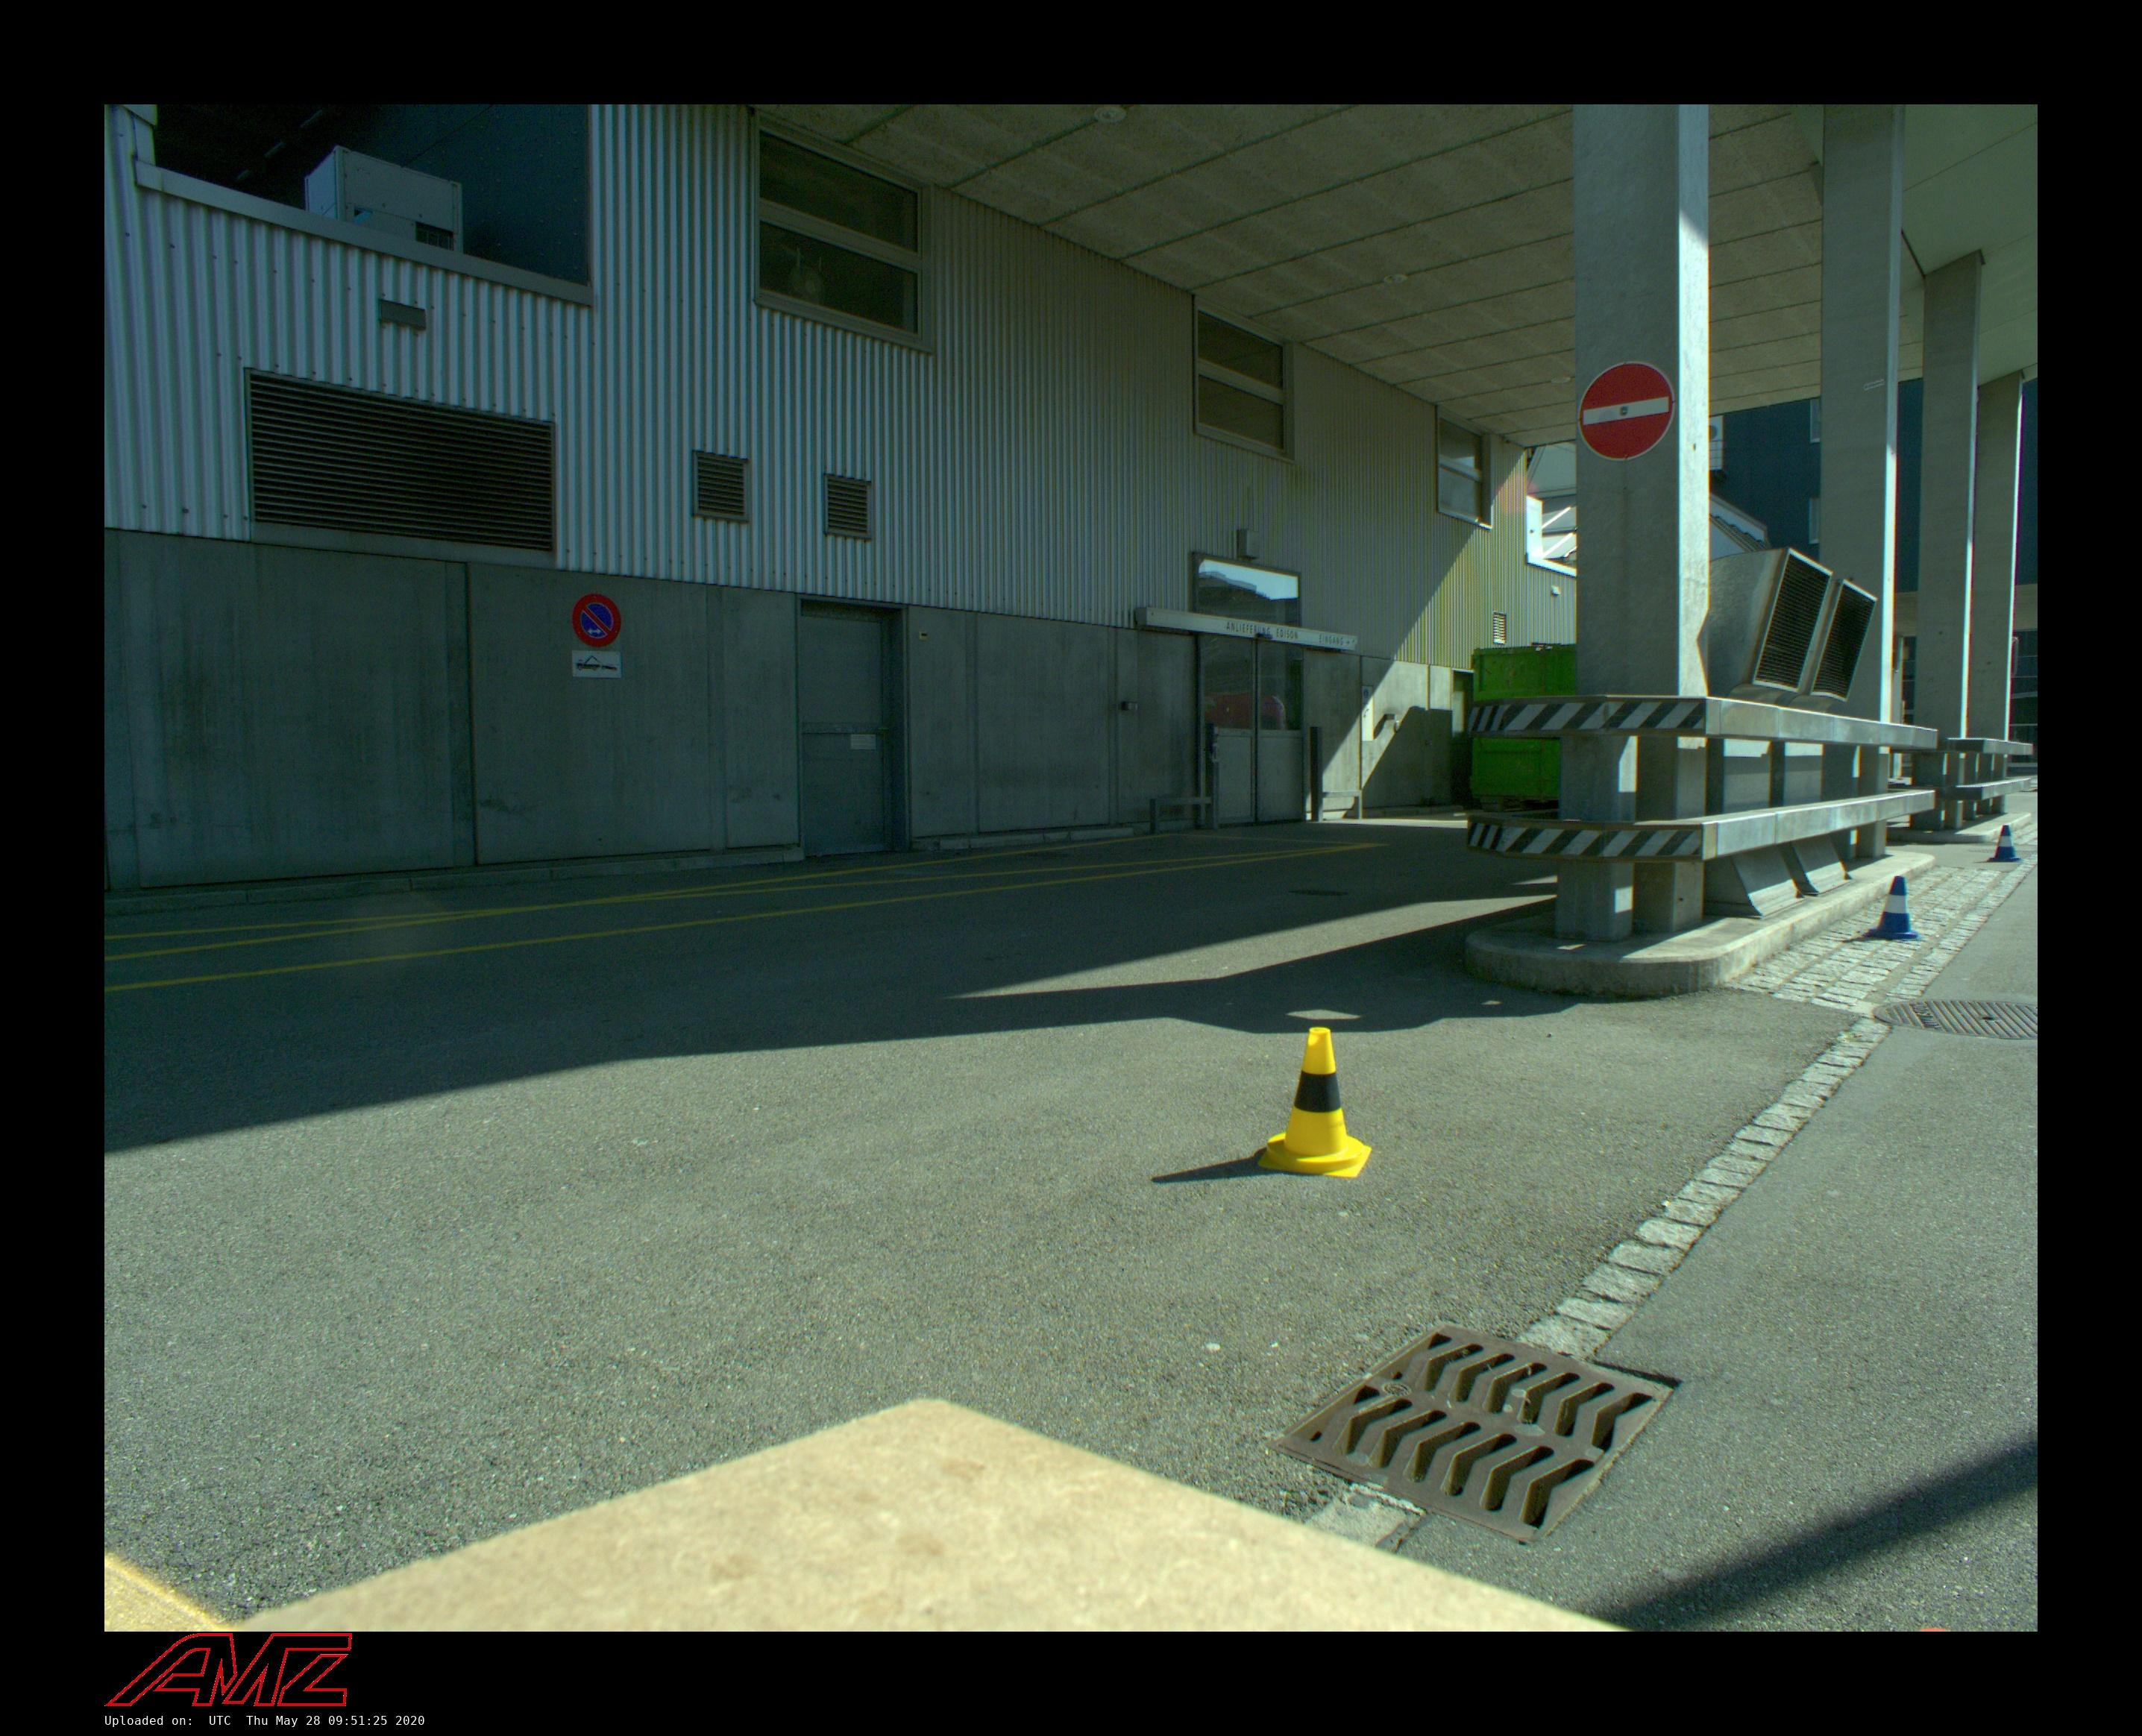blue_cone: (1864, 875, 1921, 942), (1986, 825, 2023, 863)
yellow_cone: (1258, 1027, 1371, 1178)
